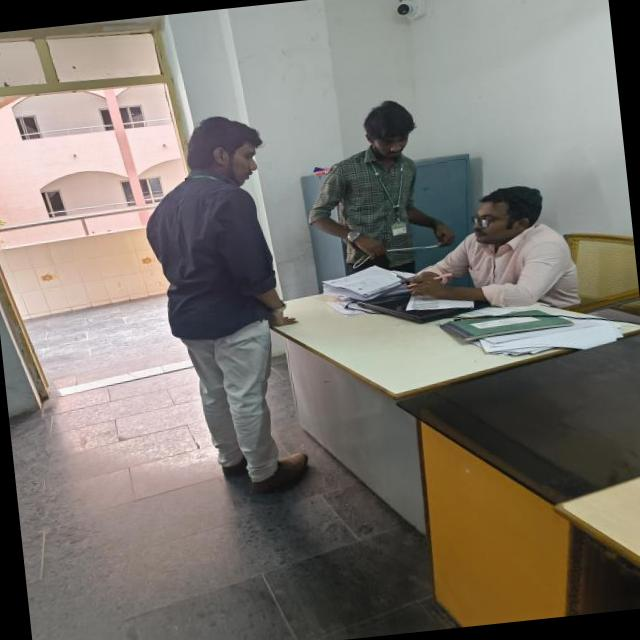id_card: (372, 150, 415, 245)
